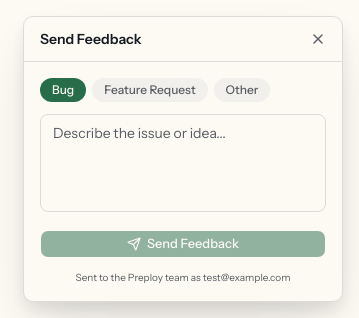
Test: FeedbackDialog › Send button is enabled once message is 5+ characters
Type "Hello world" into the text box with test id "feedback-textarea" at {"x": 183, "y": 163}, box [40,114,326,212]
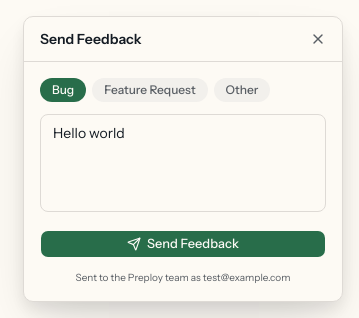
Now the button with test id "feedback-send" is enabled, box [40,230,326,258]
